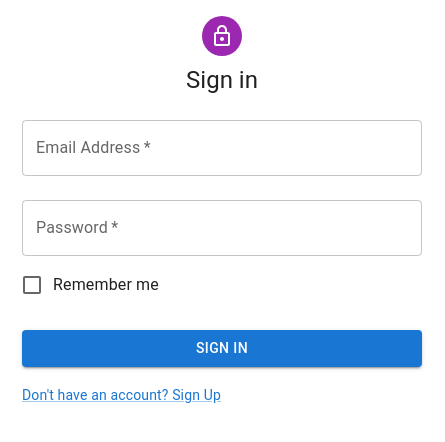
Test case: test auth › should pass wrong user credentials (password) and get error
Type "user@user.com" into the field labelled "Email Address *" at (222, 148), box [22,120,422,176]
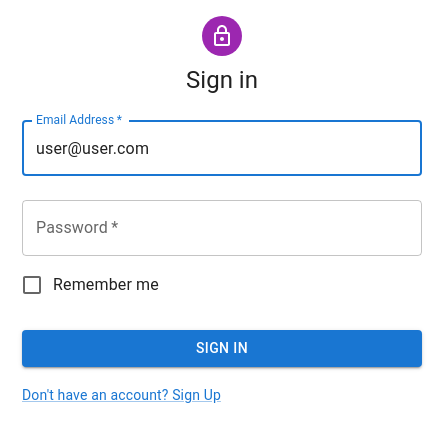
Type "1" into the password field labelled "Password *" at (222, 228), box [22,200,422,256]
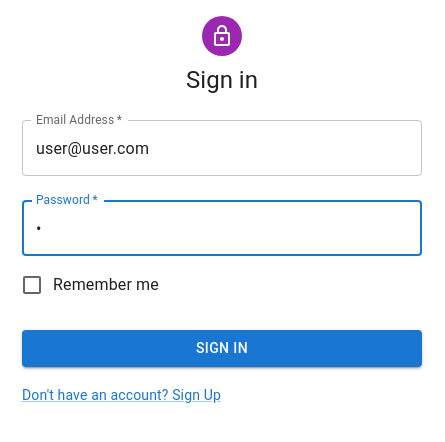
Click the button "Sign In" at (222, 349), box [22,330,422,367]
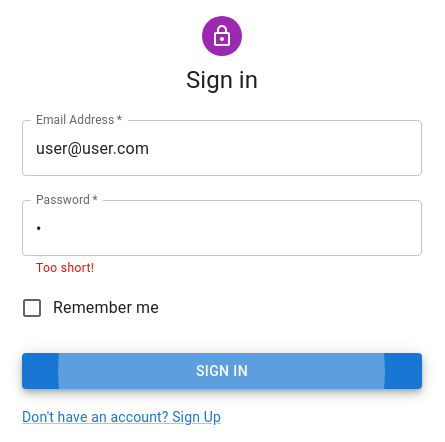
Result: the element showing "Too short!" is shown at [36,261,94,275]
